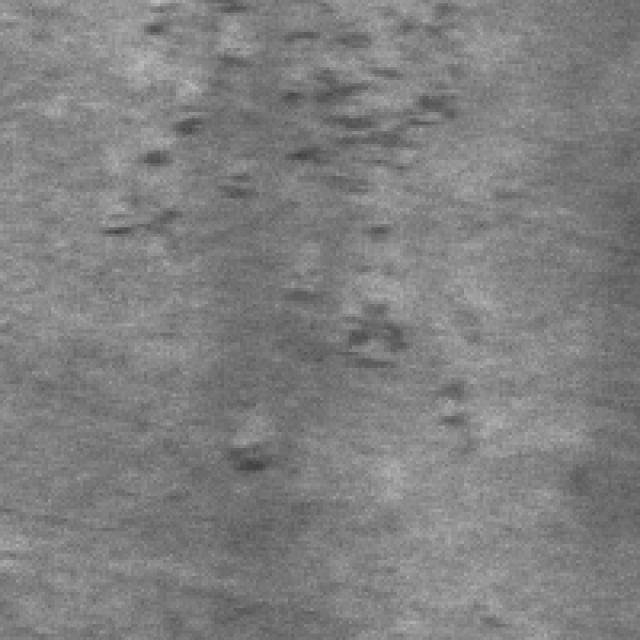rolled-in_scale: (140, 0, 490, 211), (221, 278, 496, 477)
